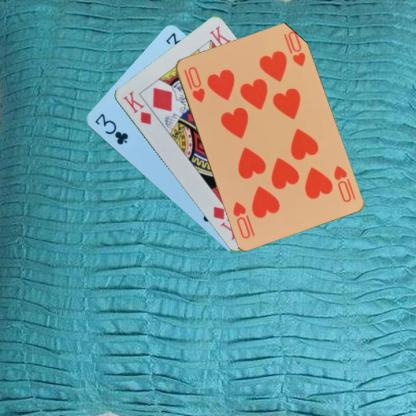10h: (330, 162, 352, 204), (185, 64, 206, 104)
3c: (92, 110, 129, 146)
Kd: (120, 88, 152, 126)
